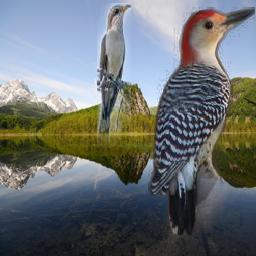Cuckoo: (97, 4, 131, 159)
Woodpecker: (149, 7, 256, 235)
